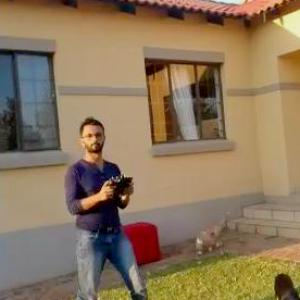follow: (57, 110, 156, 299)
null: (188, 208, 234, 258), (273, 269, 299, 299)
